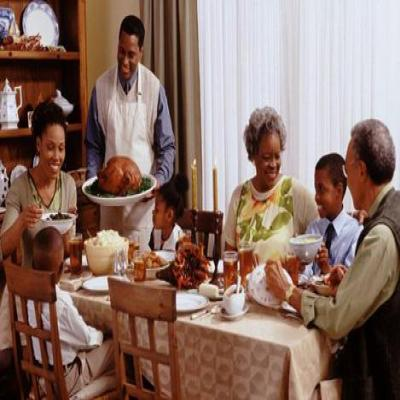happy: (116, 32, 141, 80), (42, 127, 66, 175), (257, 139, 281, 182), (314, 172, 334, 217)
